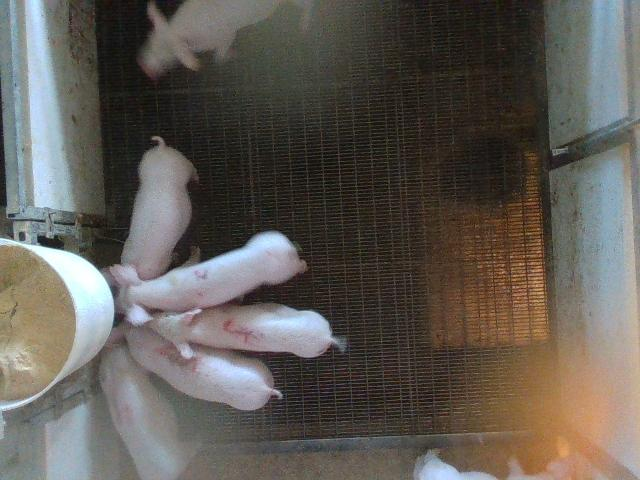pig-3: (107, 322, 282, 410)
pig-4: (99, 345, 198, 478)
pig-5: (148, 304, 346, 358)
